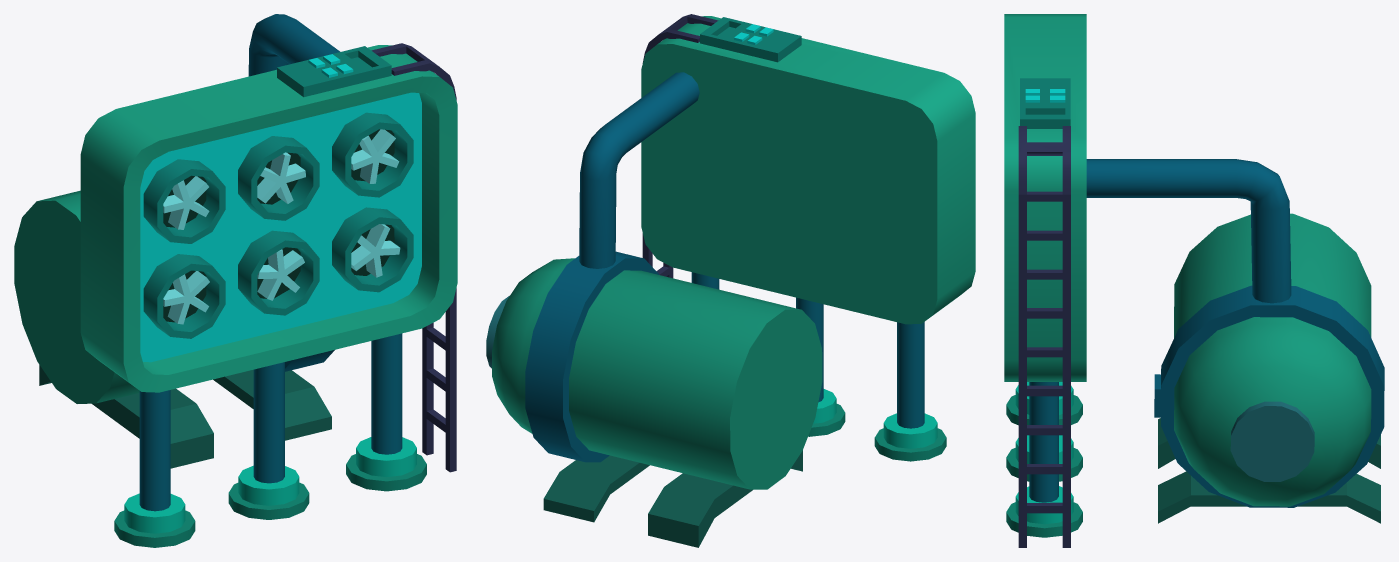
File: 2026-1-9-CarbonCapture-v044.fbx
3 renders of one model, left to right at view 1: azimuth 30°, elevation 25°; view 2: azimuth 150°, elevation 25°; view 3: azimuth 270°, elevation 25°, orthographic. The views are drawn at different scales.
Parts seen in each view (by area): view 1: Cube.003, Cylinder, Cube.004, Cube.001, Cylinder.006, Cylinder.012, Cylinder.007, Cylinder.011, Cylinder.003, Cylinder.014, Cylinder.008, Cylinder.009 (+15 smaller); view 2: Cube.003, Cylinder, Cylinder.002, Cylinder.001, Cube.001, Cube, Cylinder.006, Cylinder.015, Cube.004, Cylinder.005, Cylinder.014; view 3: Cylinder, Cube.003, Cube.004, Cylinder.001, Cylinder.002, Cube, Cylinder.003, Cylinder.004, Cube.001, Cylinder.017, Cylinder.005, Cylinder.013.
Part boxes in pixels (x1,y1,x2,y2): Cube.003: (80, 45, 457, 392); Cylinder: (14, 190, 139, 403); Cube.004: (371, 43, 456, 472); Cube.001: (39, 365, 213, 468); Cylinder.006: (139, 390, 170, 511); Cylinder.012: (143, 254, 225, 338); Cylinder.007: (143, 159, 225, 243); Cylinder.011: (238, 230, 319, 315); Cylinder.003: (371, 333, 402, 454); Cylinder.014: (253, 362, 284, 483); Cylinder.008: (238, 136, 319, 220); Cylinder.009: (332, 112, 413, 197); Cube.003: (641, 16, 975, 324); Cylinder: (486, 258, 822, 489); Cylinder.002: (525, 251, 659, 462); Cylinder.001: (579, 72, 699, 268); Cube.001: (648, 450, 802, 547); Cube: (543, 455, 649, 522); Cylinder.006: (897, 322, 924, 428); Cylinder.015: (883, 413, 937, 448); Cube.004: (642, 14, 718, 278); Cylinder.005: (874, 428, 946, 461); Cylinder.014: (796, 297, 823, 402); Cylinder: (1174, 213, 1371, 506); Cube.003: (1004, 14, 1086, 381); Cube.004: (1018, 126, 1070, 547); Cylinder.001: (1086, 159, 1291, 303); Cylinder.002: (1154, 285, 1384, 507); Cube: (1158, 471, 1380, 523); Cylinder.003: (1029, 382, 1058, 502); Cylinder.004: (1006, 502, 1082, 537); Cube.001: (1158, 418, 1380, 468); Cylinder.017: (1015, 486, 1073, 524); Cylinder.005: (1006, 395, 1082, 425); Cylinder.013: (1006, 448, 1082, 481).
Bounding box in the file's own units: 295 × 307 × 264.
